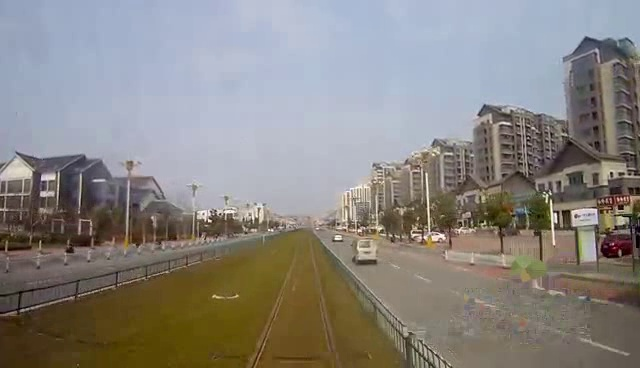car: (351, 233, 384, 271)
